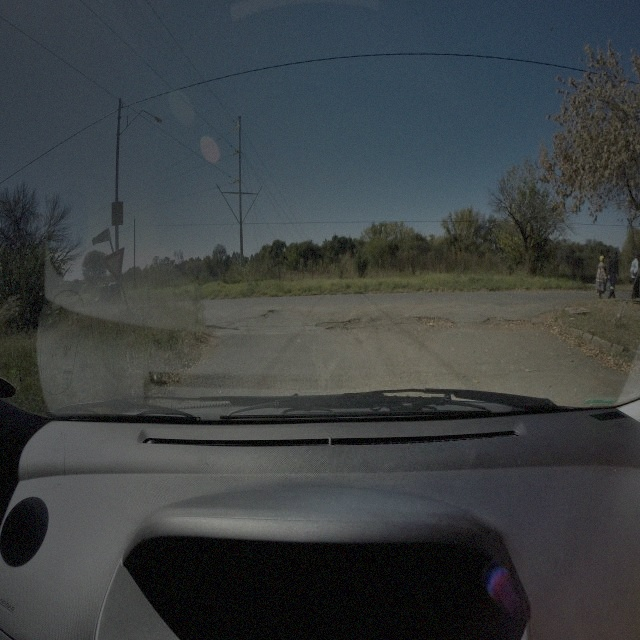pothole: (486, 316, 530, 331), (421, 314, 457, 331), (324, 318, 362, 331), (266, 308, 278, 320)
